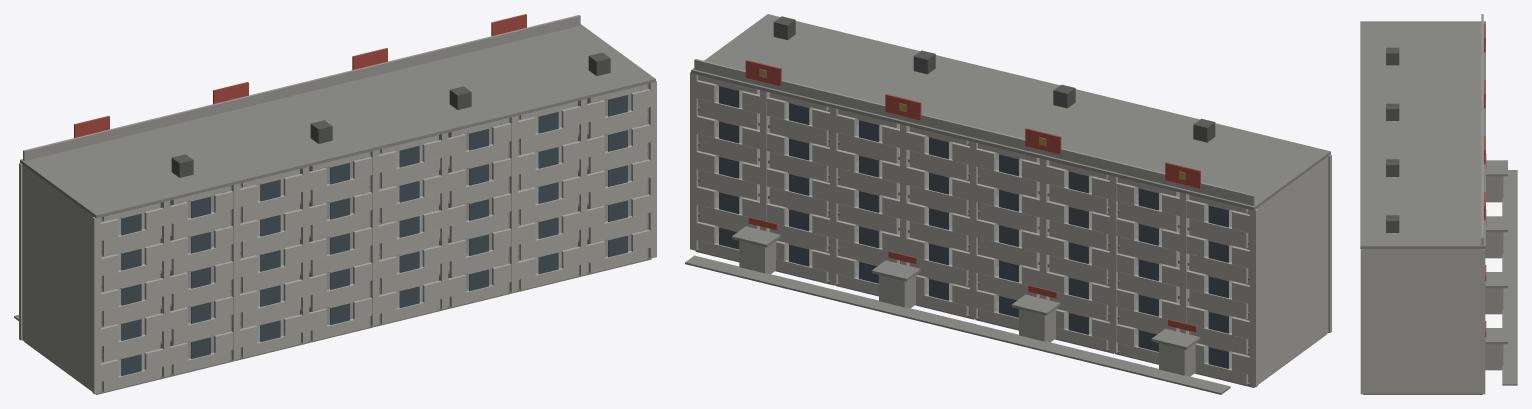
The model's file is b_khrush5_long.glb.
3 renders of one model, left to right at view 1: azimuth 30°, elevation 25°; view 2: azimuth 150°, elevation 25°; view 3: azimuth 270°, elevation 25°, orthographic. The views are drawn at different scales.
Parts seen in each view (by area): view 1: roof_s0, roof_s1, roof_s2, roof_s3, wall_s0_f2_r0, wall_s0_f1_r0, wall_s0_f3_r0, wall_s0_f0_r0, wall_s0_f4_r0, wall_s0_f0_w, wall_s0_f3_w, wall_s0_f2_w (+42 smaller); view 2: details, roof_s0, roof_s2, roof_s3, roof_s1, wall_s0_f3_l0, wall_s0_f2_l0, wall_s0_f4_l0, wall_s0_f1_l0, wall_s0_f0_w, wall_s0_f1_w, wall_s0_f2_w (+38 smaller); view 3: roof_s3, roof_s2, roof_s0, roof_s1, details, wall_s3_f0_e, wall_s3_f1_e, wall_s3_f2_e, wall_s3_f3_e, wall_s3_f4_e, slab_s3_f0.
Boxes of the visible parts, x1,y1,x2,y2 form: roof_s0: [20, 116, 238, 218]; roof_s1: [162, 83, 377, 183]; roof_s2: [301, 49, 516, 150]; roof_s3: [440, 15, 655, 116]; wall_s0_f2_r0: [92, 270, 170, 323]; wall_s0_f1_r0: [92, 305, 170, 359]; wall_s0_f3_r0: [92, 235, 170, 288]; wall_s0_f0_r0: [92, 341, 170, 394]; wall_s0_f4_r0: [92, 200, 170, 253]; wall_s0_f0_w: [22, 305, 92, 391]; wall_s0_f3_w: [22, 199, 92, 285]; wall_s0_f2_w: [22, 235, 92, 320]; details: [685, 60, 1230, 394]; roof_s0: [1110, 116, 1330, 210]; roof_s2: [831, 48, 1047, 141]; roof_s3: [691, 14, 909, 107]; roof_s1: [971, 82, 1186, 175]; wall_s0_f3_l0: [1179, 227, 1257, 281]; wall_s0_f2_l0: [1179, 263, 1257, 316]; wall_s0_f4_l0: [1179, 192, 1257, 245]; wall_s0_f1_l0: [1179, 298, 1257, 351]; wall_s0_f0_w: [1258, 298, 1328, 383]; wall_s0_f1_w: [1258, 262, 1328, 348]; wall_s0_f2_w: [1258, 227, 1328, 313]; roof_s3: [1360, 181, 1485, 248]; roof_s2: [1360, 125, 1485, 190]; roof_s0: [1360, 14, 1485, 78]; roof_s1: [1360, 70, 1485, 134]; details: [1484, 24, 1517, 385]; wall_s3_f0_e: [1364, 364, 1481, 393]; wall_s3_f1_e: [1364, 335, 1481, 364]; wall_s3_f2_e: [1364, 306, 1481, 335]; wall_s3_f3_e: [1364, 277, 1481, 306]; wall_s3_f4_e: [1364, 249, 1481, 277]; slab_s3_f0: [1363, 393, 1482, 394].
Size of the model in its own units: 48.55 by 16.82 by 14.3.
